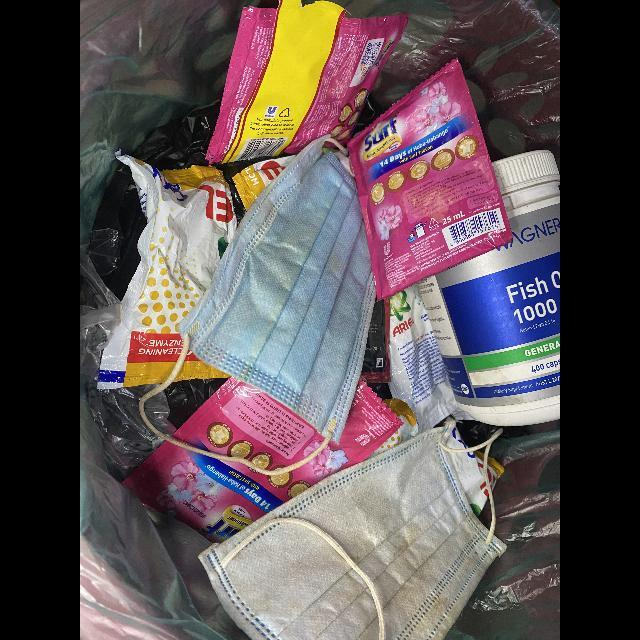plastic_container: (419, 150, 560, 427)
plastic_sachet: (122, 377, 404, 548), (347, 58, 513, 302), (97, 150, 237, 391), (205, 0, 408, 165), (386, 283, 458, 433)
